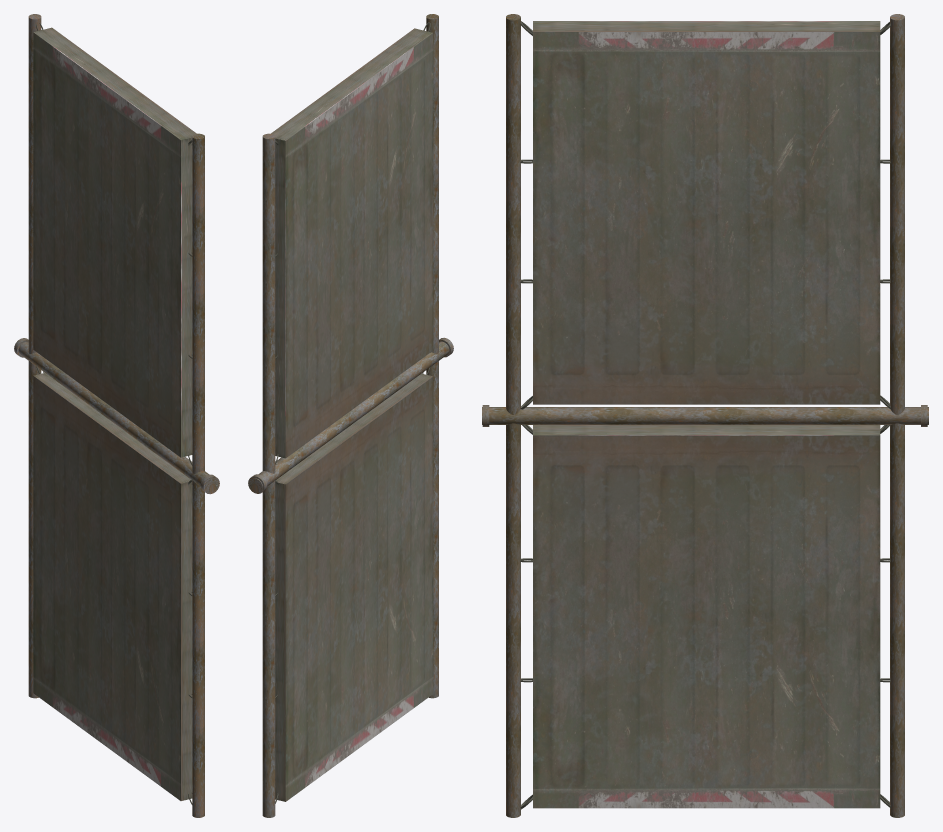
Rendered from shutter.obj.
3 views of the same model, side by side, from view 1: azimuth 30°, elevation 25°; view 2: azimuth 150°, elevation 25°; view 3: azimuth 270°, elevation 25° (orthographic). The views are drawn at different scales.
Parts seen in each view (by area): view 1: Box022, Box023, Cylinder011, Cylinder010, Cylinder012; view 2: Box022, Box023, Cylinder010, Cylinder011, Cylinder012; view 3: Box022, Box023, Cylinder011, Cylinder010, Cylinder012.
Boxes of the visible parts, x1=… form: Box022: x1=33, y1=27, x2=196, y2=457; Box023: x1=33, y1=373, x2=192, y2=800; Cylinder011: x1=192, y1=133, x2=204, y2=817; Cylinder010: x1=28, y1=14, x2=41, y2=698; Cylinder012: x1=18, y1=342, x2=218, y2=492; Box022: x1=271, y1=28, x2=433, y2=458; Box023: x1=275, y1=373, x2=433, y2=801; Cylinder010: x1=262, y1=133, x2=275, y2=817; Cylinder011: x1=426, y1=14, x2=438, y2=698; Cylinder012: x1=249, y1=341, x2=449, y2=492; Box022: x1=533, y1=21, x2=880, y2=404; Box023: x1=533, y1=425, x2=880, y2=808; Cylinder011: x1=506, y1=14, x2=520, y2=817; Cylinder010: x1=890, y1=14, x2=904, y2=817; Cylinder012: x1=482, y1=407, x2=928, y2=424.
Size of the model in its own units: 0.1146 by 3.94 by 2.
3 materials, 2 textured.
